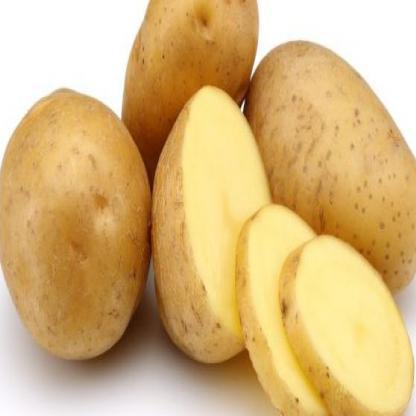potato: (249, 26, 416, 302), (0, 94, 164, 368), (154, 80, 280, 370)
